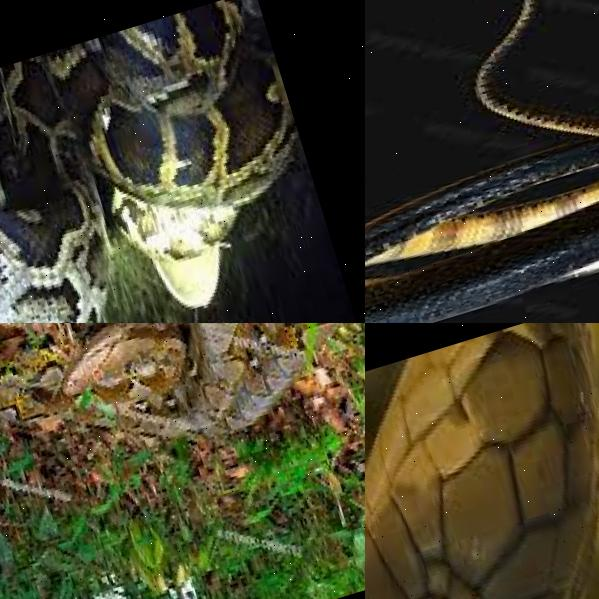snake: (0, 0, 365, 323), (365, 0, 599, 323), (0, 323, 365, 512), (365, 323, 599, 599)
